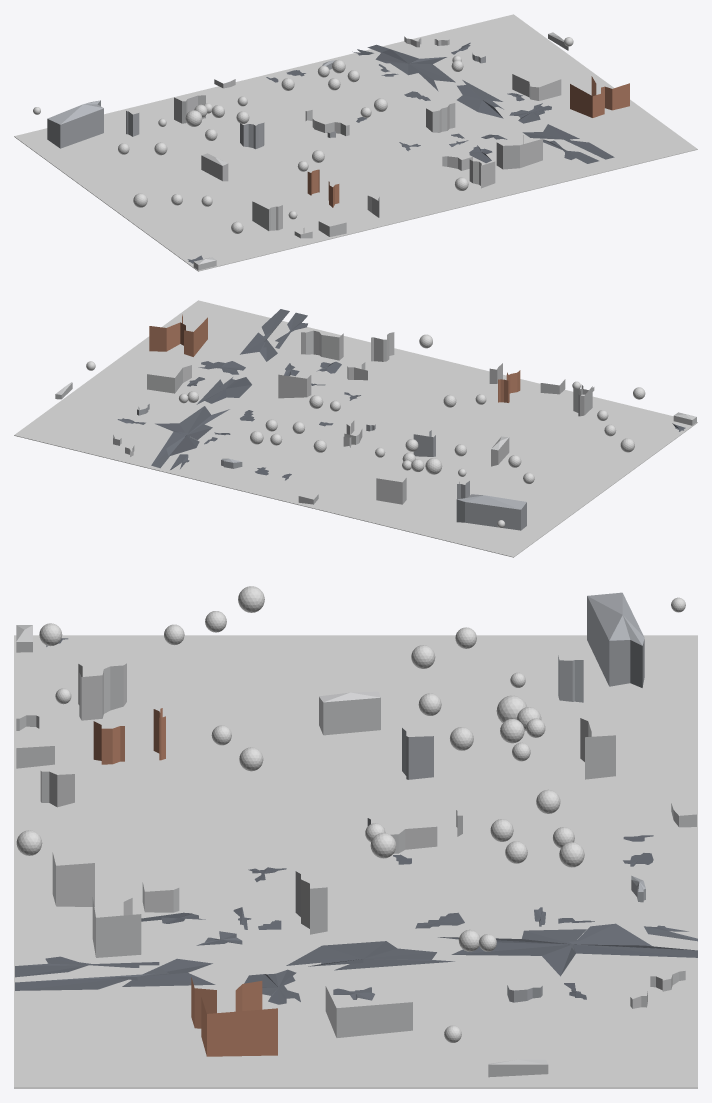
The picture shows the model from 3 angles, top to bottom: view 1: azimuth 30°, elevation 25°; view 2: azimuth 150°, elevation 25°; view 3: azimuth 270°, elevation 25°; orthographic projection. The views are drawn at different scales.
Visible parts, largest first — view 1: Ground_Base, Road_Corridors, B004, B017, B020, B013, B021, B016, B023, B012, B014, B006; view 2: Ground_Base, Road_Corridors, B004, B017, B020, B016, B013, B006, B023, B012, B021, B014; view 3: Ground_Base, Road_Corridors, B017, B004, B013, B014, B020, B021, B023, B006, B016, B012 (+7 smaller).
Boxes of the visible parts, box(x1,y1,x2,y2) form: Ground_Base: box(14, 14, 697, 271); Road_Corridors: box(187, 42, 614, 263); B004: box(47, 100, 103, 148); B017: box(570, 76, 629, 117); B020: box(496, 135, 542, 169); B013: box(512, 74, 561, 100); B021: box(252, 201, 282, 230); B016: box(426, 103, 455, 132); B023: box(469, 159, 495, 188); B012: box(240, 122, 264, 149); B014: box(201, 153, 228, 181); B006: box(174, 95, 205, 123); Ground_Base: box(14, 300, 697, 557); Road_Corridors: box(117, 309, 685, 480); B004: box(456, 494, 526, 530); B017: box(149, 314, 207, 356); B020: box(301, 330, 343, 360); B016: box(278, 374, 311, 398); B013: box(147, 365, 191, 393); B006: box(376, 478, 406, 504); B023: box(371, 332, 394, 361); B012: box(413, 430, 435, 456); B021: box(573, 386, 592, 416); B014: box(491, 436, 509, 466); Ground_Base: box(14, 635, 697, 1088); Road_Corridors: box(15, 638, 697, 1004); B017: box(191, 977, 277, 1056); B004: box(587, 592, 644, 687); B013: box(325, 986, 412, 1037); B014: box(319, 691, 380, 735); B020: box(92, 897, 141, 957); B021: box(78, 663, 126, 720); B023: box(52, 852, 94, 907); B006: box(580, 718, 615, 779); B016: box(295, 871, 327, 934); B012: box(402, 728, 433, 779).
Bounding box in the file's own units: 386 × 26.23 × 247.
